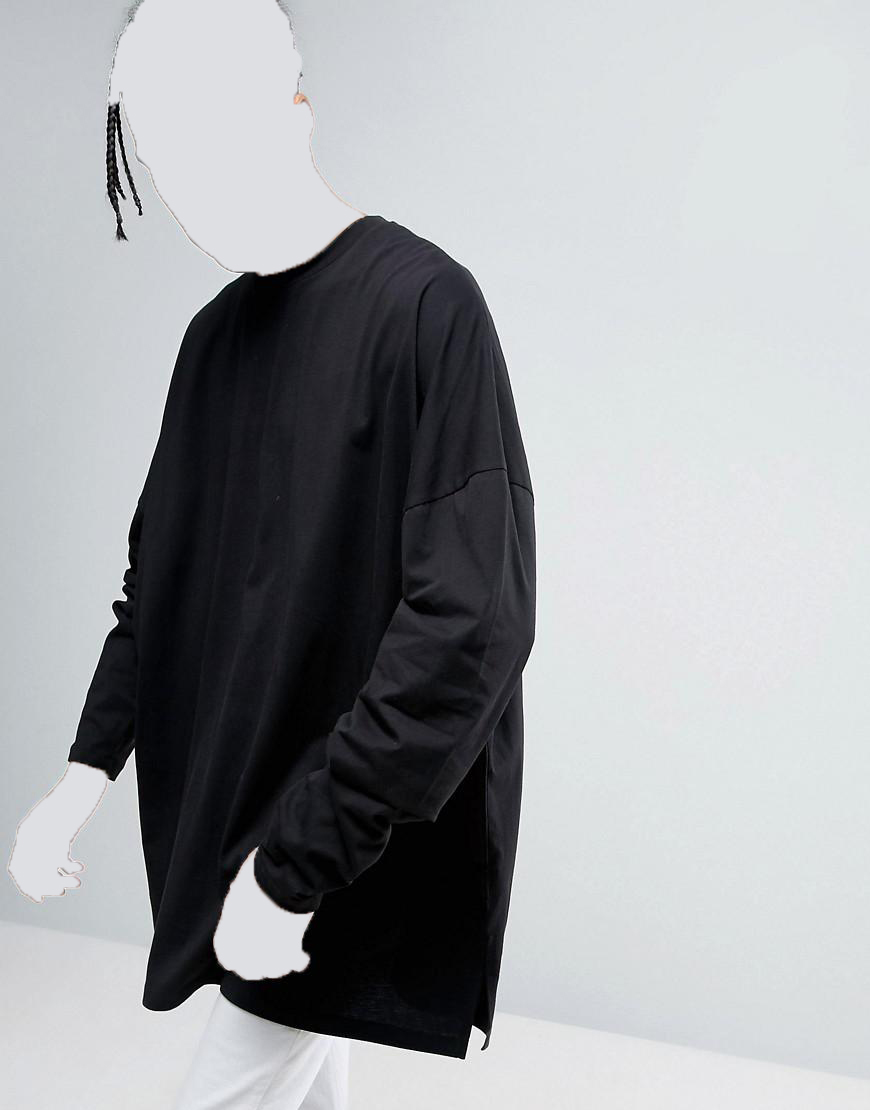teeshirt: (71, 212, 534, 1064)
